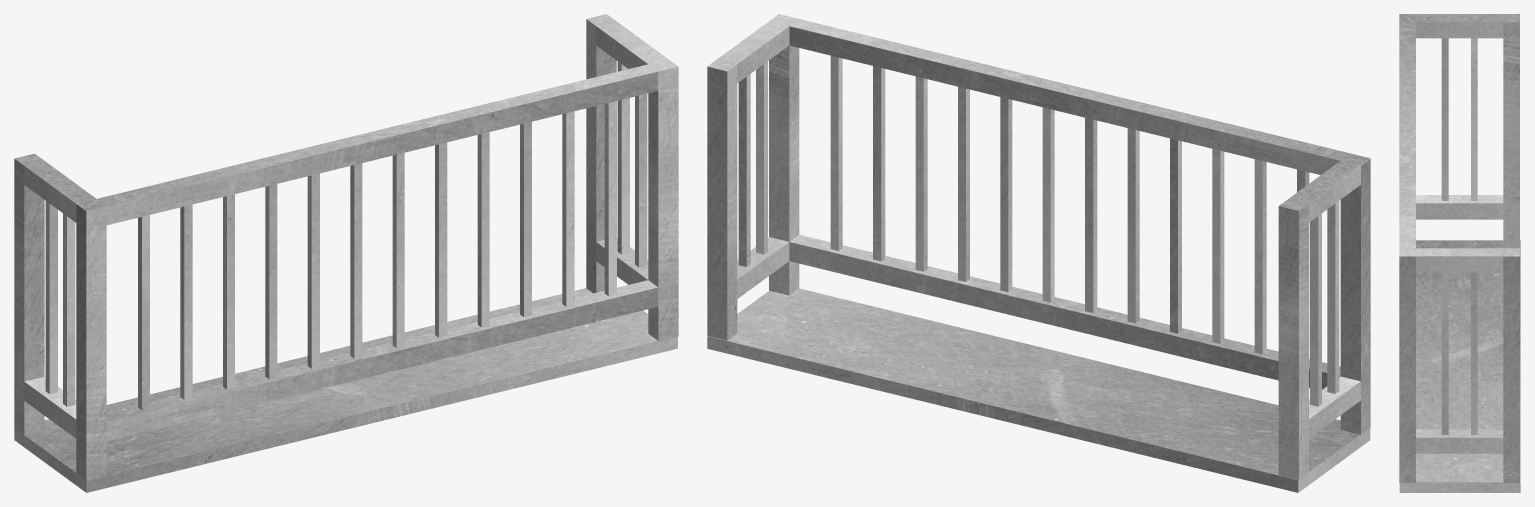
File: Balcony_003.fbx
The picture shows the model from 3 angles, left to right: view 1: azimuth 30°, elevation 25°; view 2: azimuth 150°, elevation 25°; view 3: azimuth 270°, elevation 25°; orthographic projection. The views are drawn at different scales.
Parts seen in each view (by area): view 1: Balcony_003; view 2: Balcony_003; view 3: Balcony_003.
Part boxes in pixels (left/top/right/bottom): Balcony_003: left=14, top=14, right=678, bottom=492; Balcony_003: left=707, top=14, right=1370, bottom=492; Balcony_003: left=1399, top=14, right=1520, bottom=492.
Bounding box in the file's own units: 170 × 77.44 × 35.97.
1 material, 1 textured.
